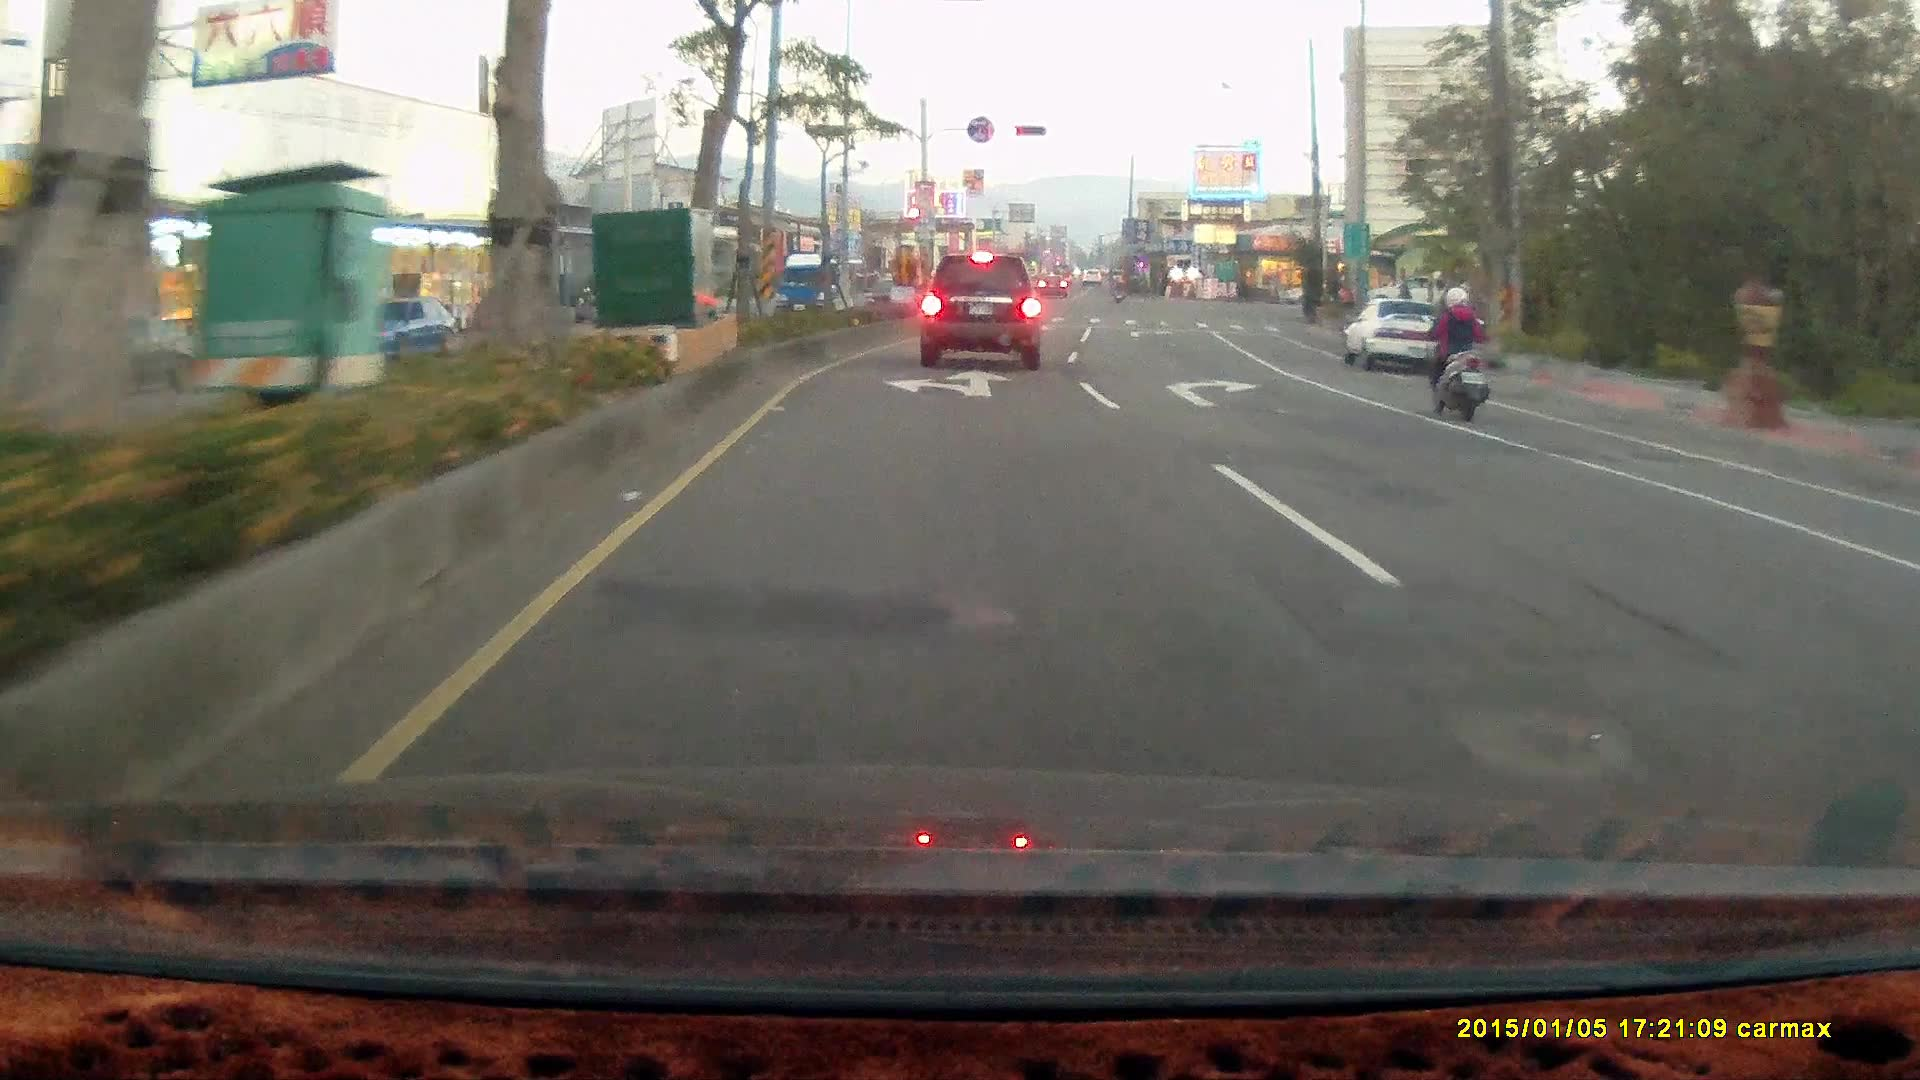rider: (1414, 280, 1493, 419)
vehicle: (918, 252, 1040, 370), (1339, 296, 1458, 376), (1344, 302, 1474, 376), (330, 297, 461, 363), (1896, 493, 1920, 836), (1883, 528, 1920, 690), (1364, 275, 1452, 313)
